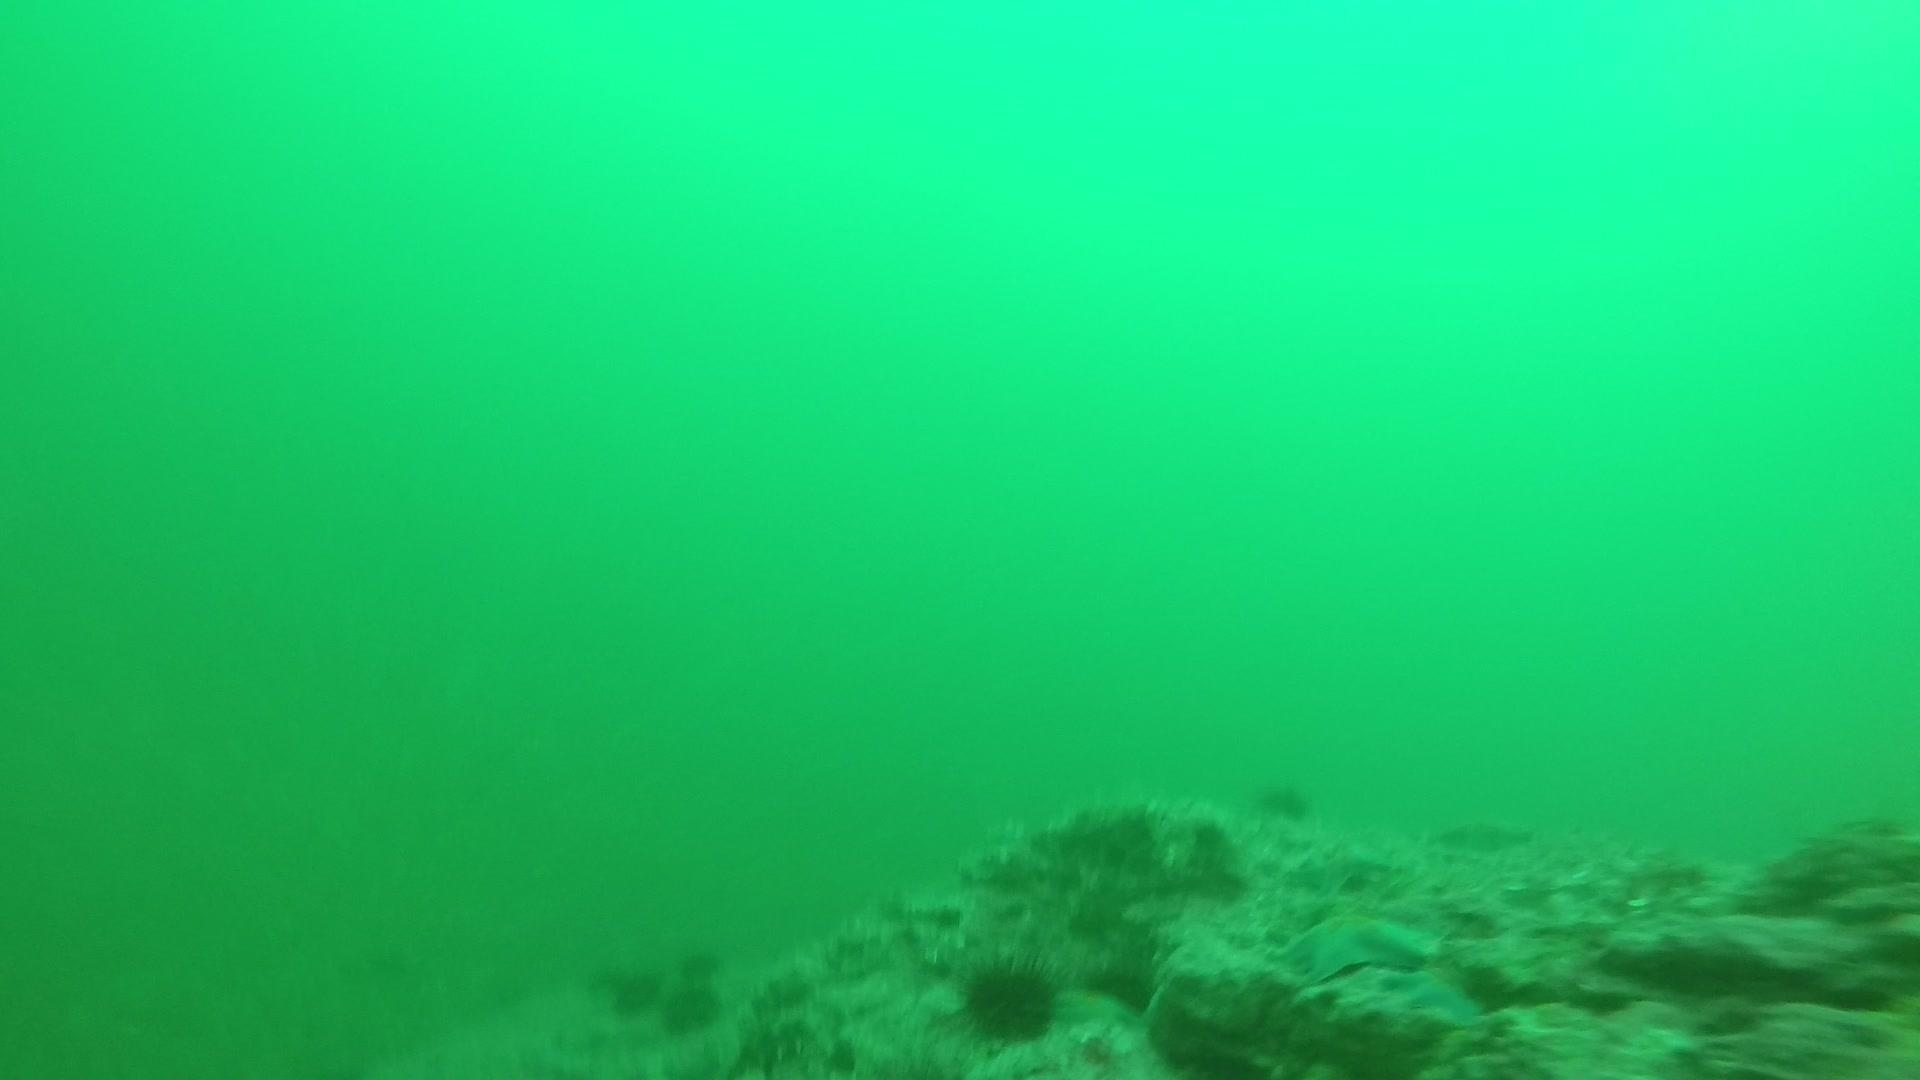echinus: (952, 949, 1067, 1048), (597, 957, 666, 1022), (655, 975, 721, 1040), (676, 932, 742, 998), (1251, 774, 1315, 825)
holothurian: (713, 1000, 828, 1080)
starfish: (1276, 905, 1437, 986), (1422, 798, 1539, 862), (1389, 963, 1491, 1025), (1287, 835, 1393, 894)
